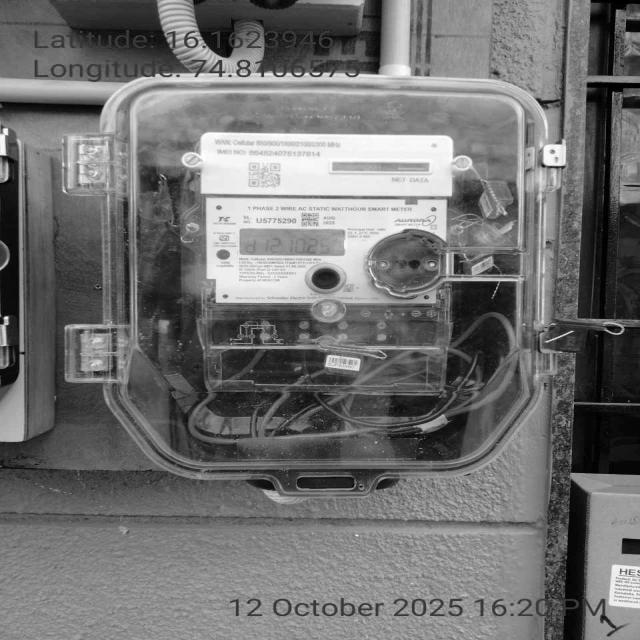meter: (200, 132, 458, 301)
